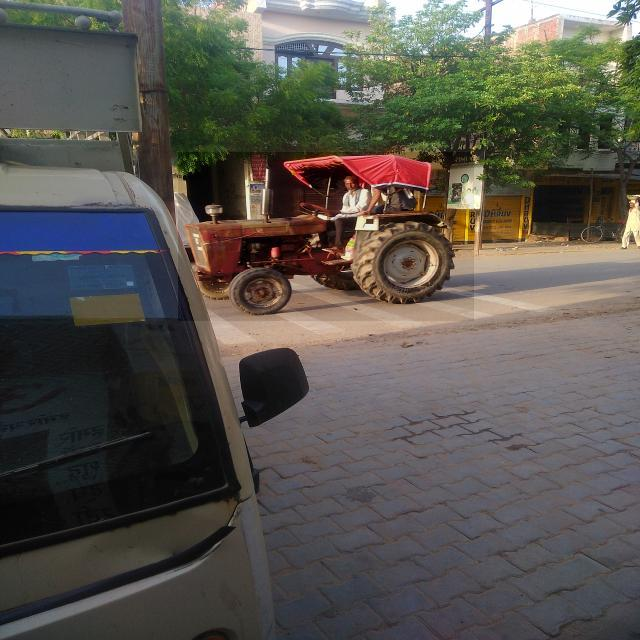Tractot: (178, 152, 474, 321)
